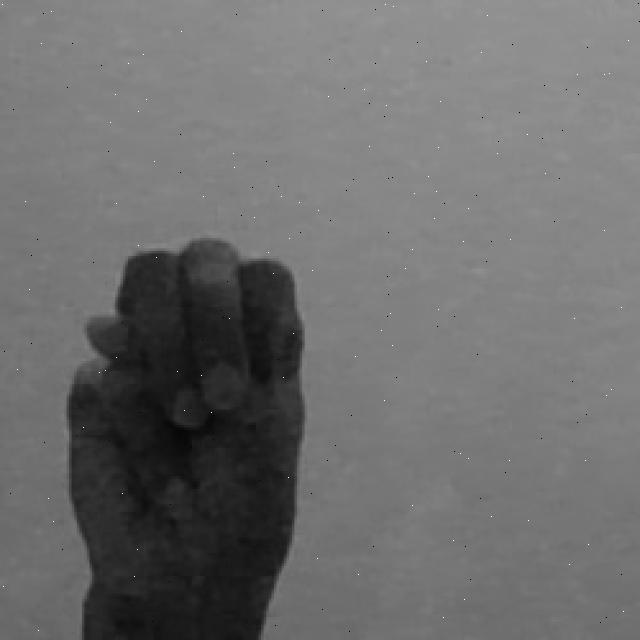M: (60, 230, 319, 640)
